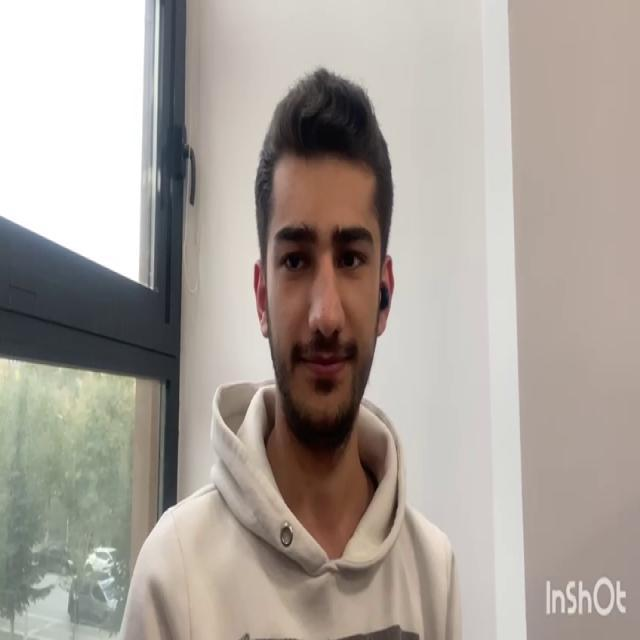natural: (262, 145, 386, 431)
